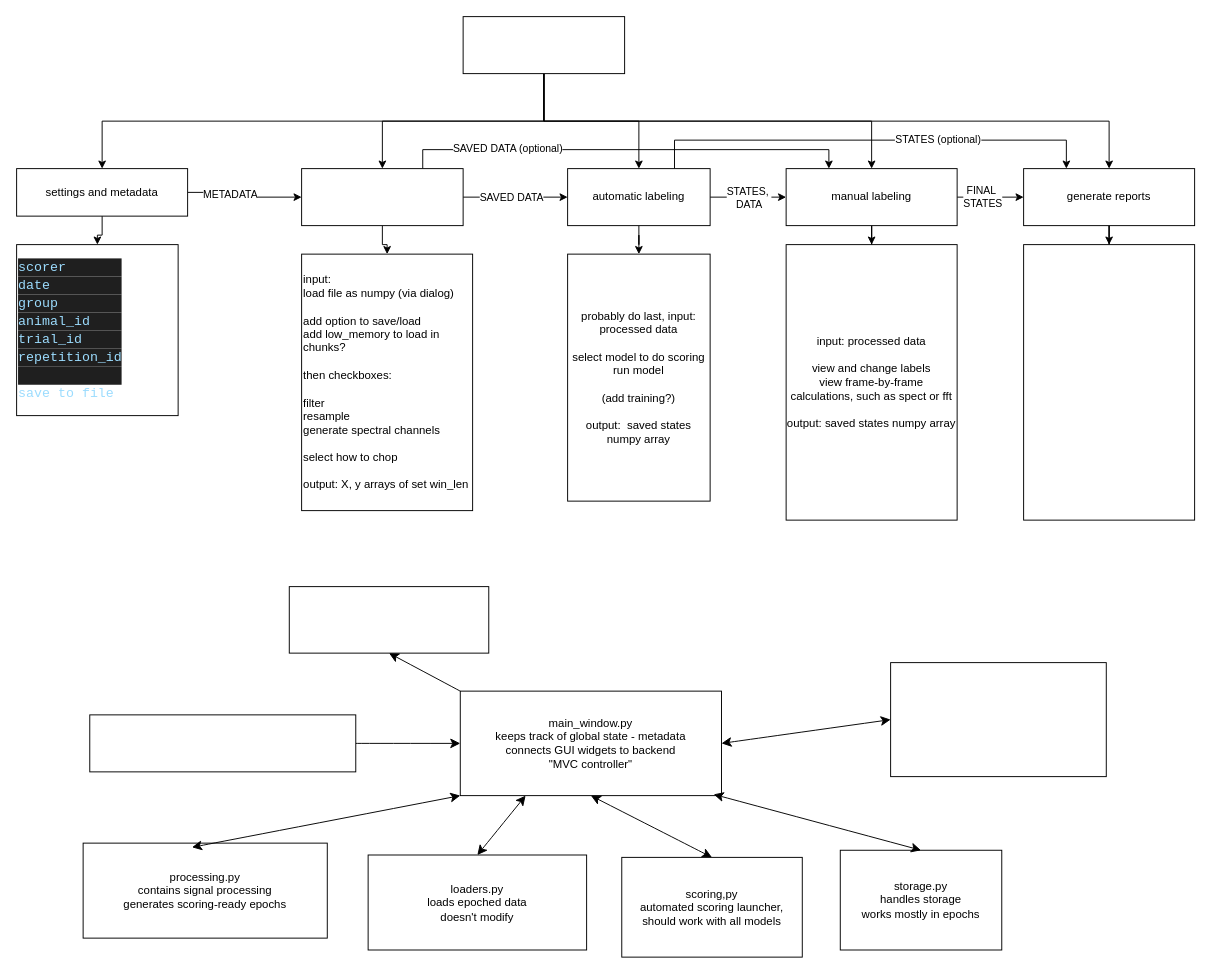
Image size: 1211x974. Some labels were removed from this diagram. The centre of each missing label's shape, as x and y in pixels:
*_utils.py separate format-related helpers: [388,619]
input: states json report quick summaries etc least important: [1109,382]
labeling.py creating/viewing annotations in GUI: [998,719]
Main window: [543,45]
main.py: initializes Qt, creates MainWindow, starts GUI loop: [222,743]
preprocessing: [382,197]
